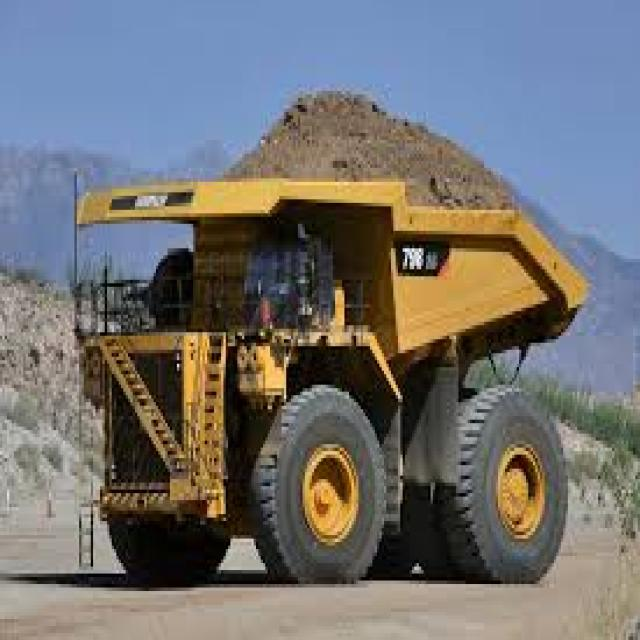dump_truck: (61, 38, 584, 594)
